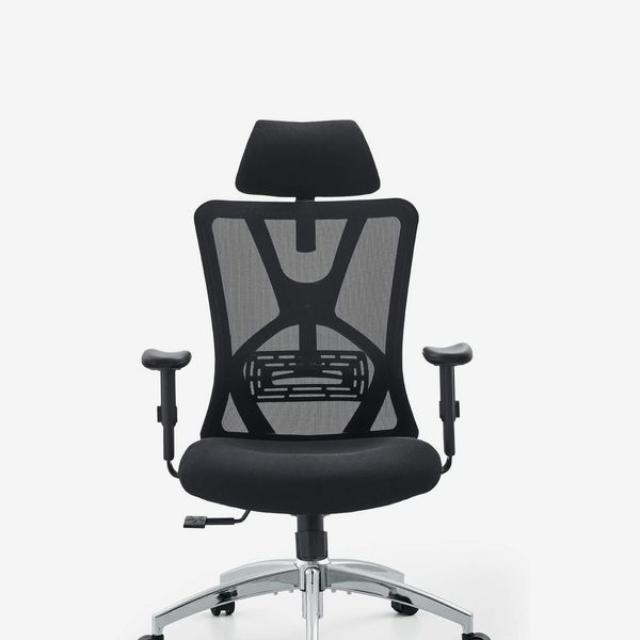obstacle: (116, 70, 572, 640)
